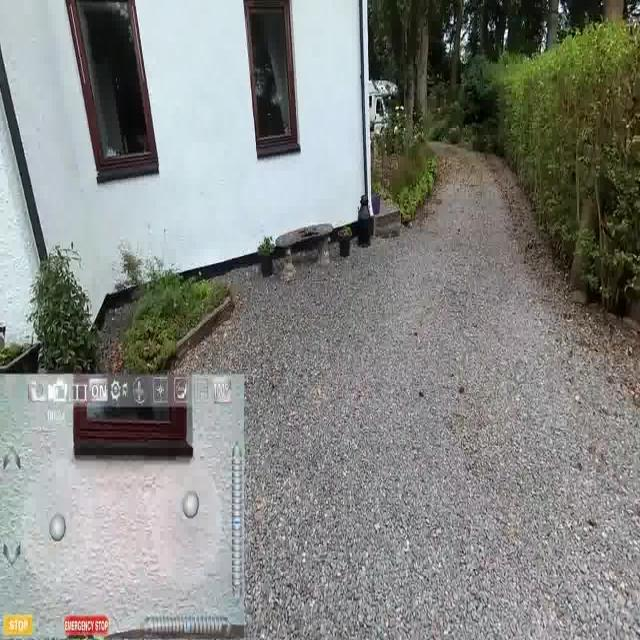drones: (298, 226, 322, 240)
